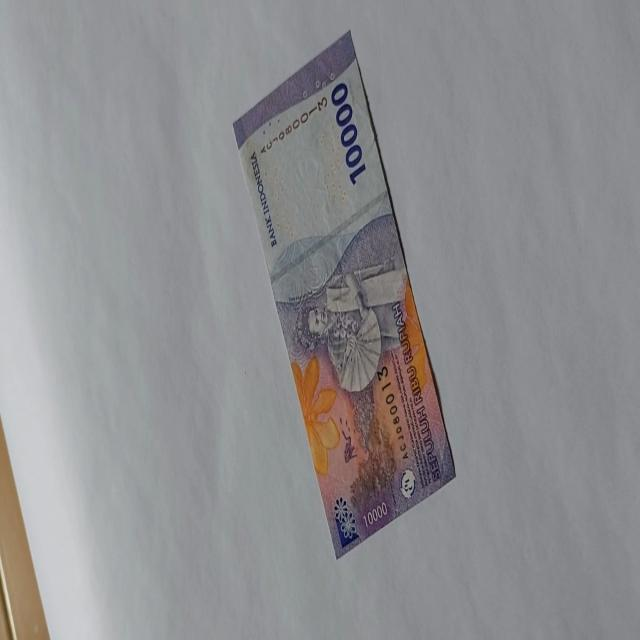sepuluh ribu rupiah: (232, 28, 456, 560)
